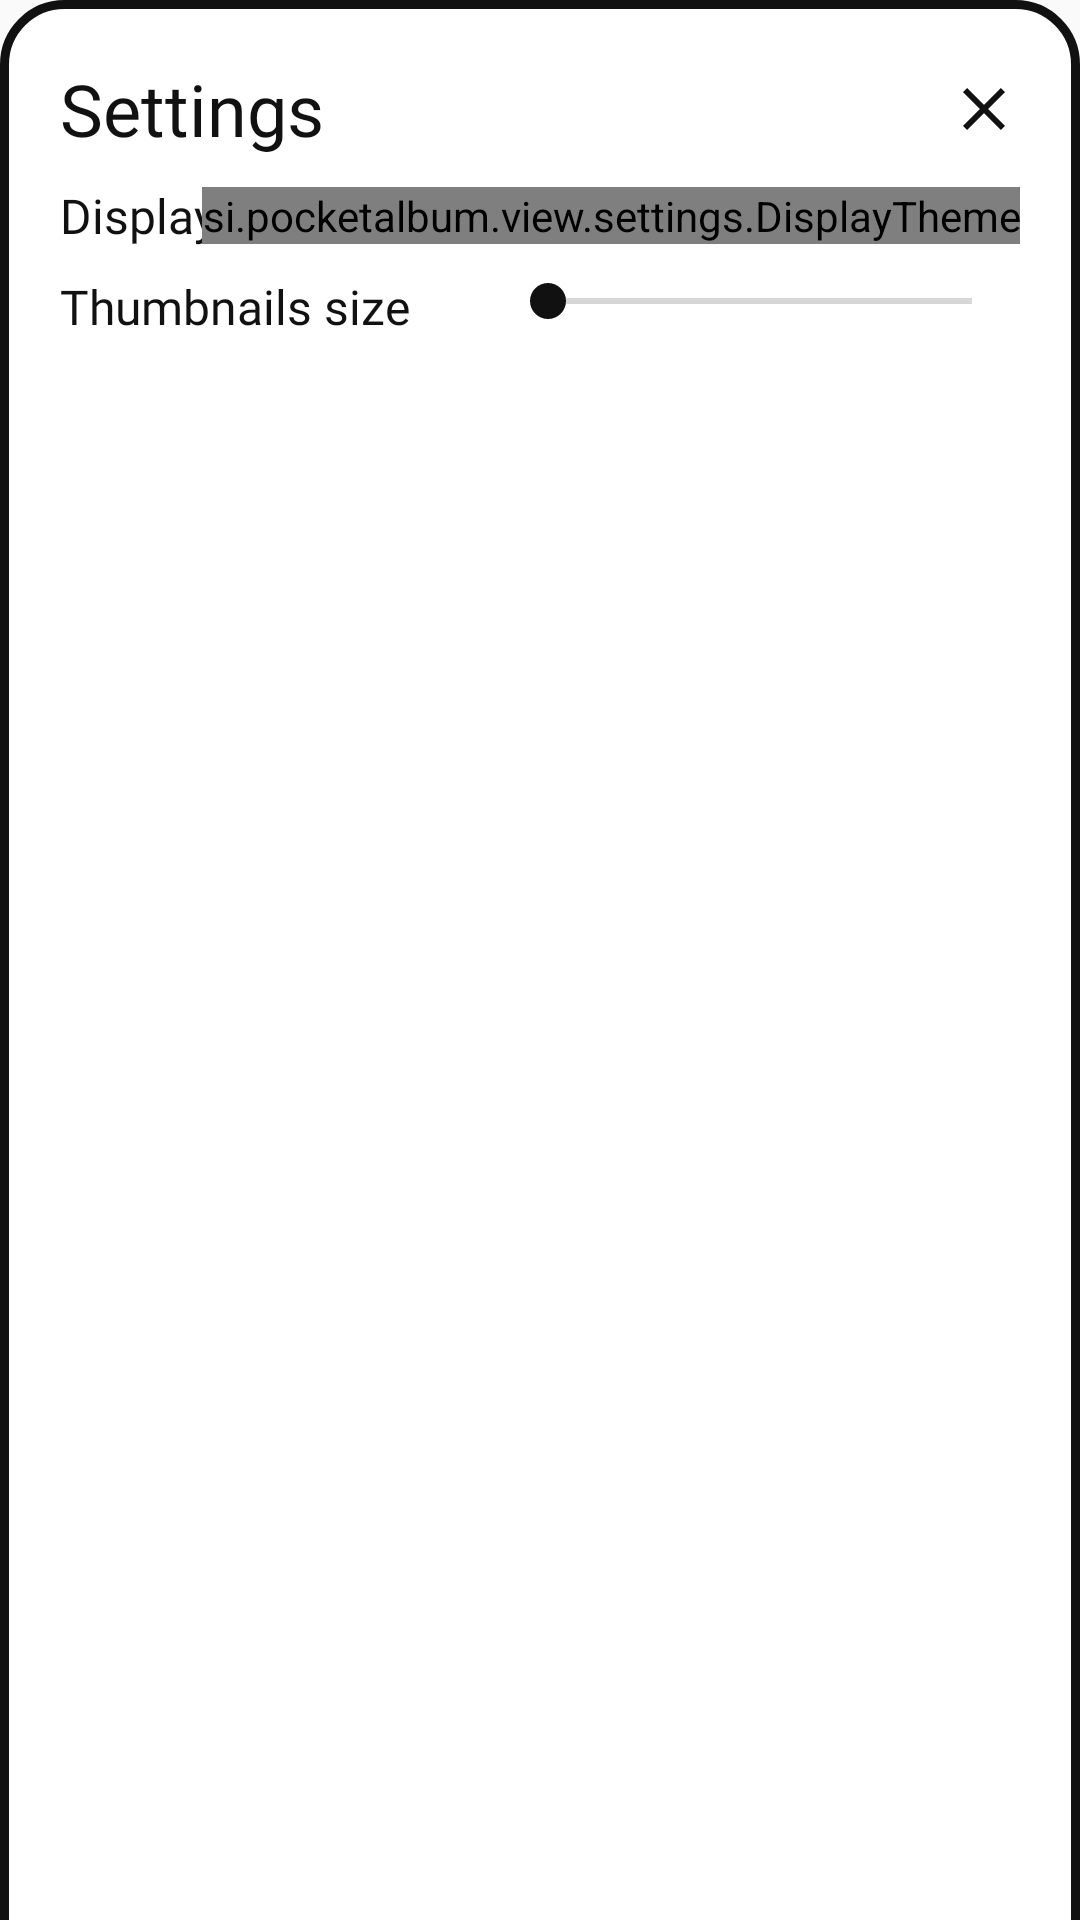

Named icons in this screenshot (1080x1920) and their bounding boxes, box(x1, y1, x2, y2):
Close: box(963, 88, 1005, 130)
